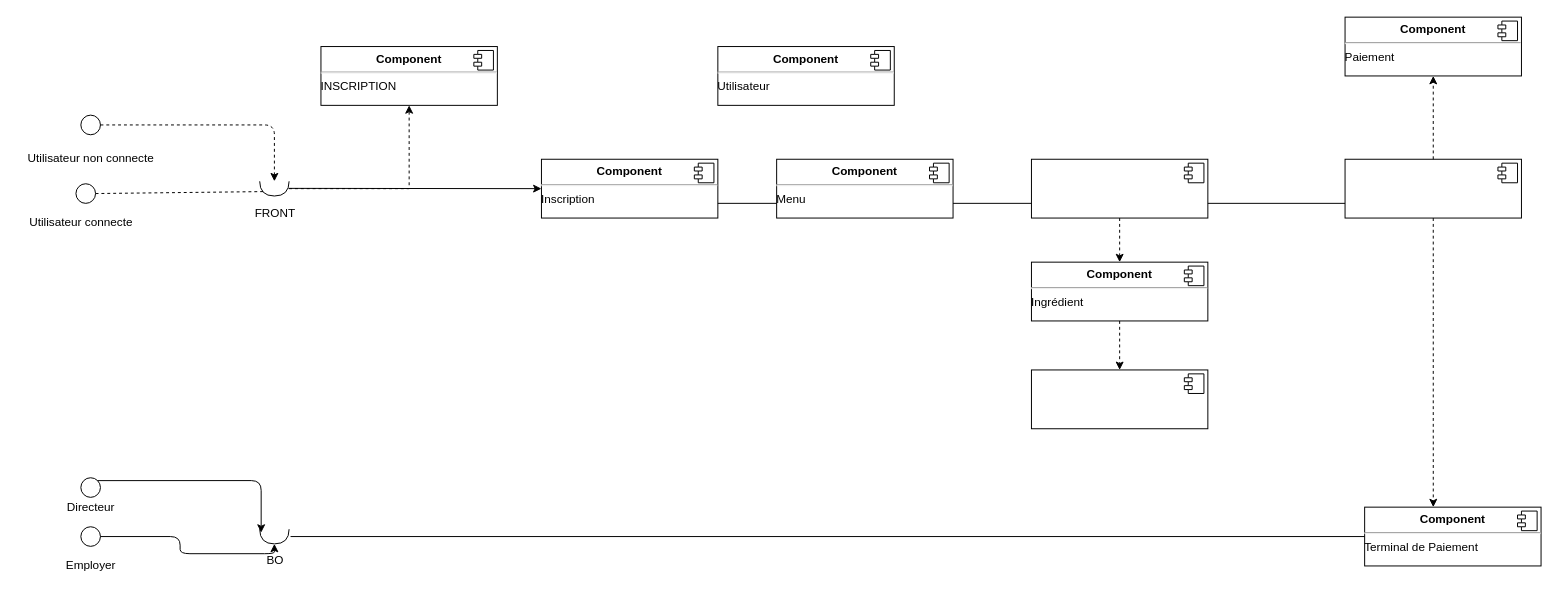
This 1558x593 diagram has some shape labels left out. Here are the shapes that lost their labels. From the top down, the centre of each, then its label:
At (1119,188): "Component Pizza".
At (1432,188): "Component Commande".
At (1119,399): "Component Stock".
